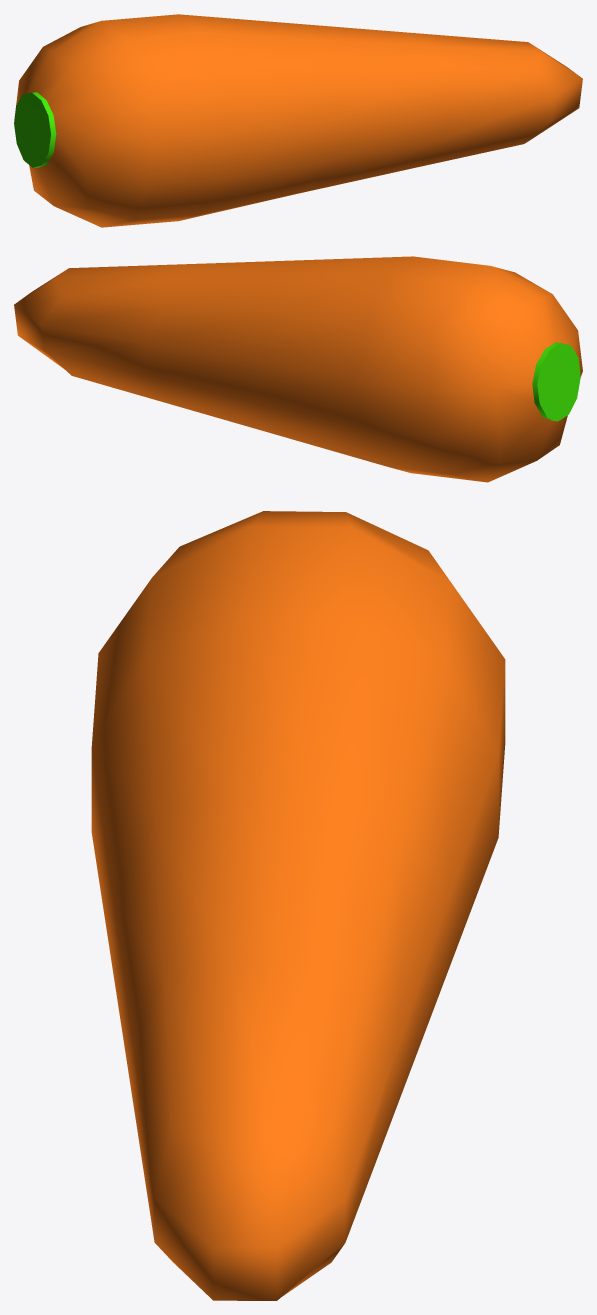
Rendered from Fridgerer_Carrot.glb.
The picture shows the model from 3 angles, top to bottom: view 1: azimuth 30°, elevation 25°; view 2: azimuth 150°, elevation 25°; view 3: azimuth 270°, elevation 25°; orthographic projection. The views are drawn at different scales.
Visible parts, largest first — view 1: Carrot; view 2: Carrot; view 3: Carrot.
Boxes of the visible parts, box(x1,y1,x2,y2) form: Carrot: box(14, 14, 582, 227); Carrot: box(14, 256, 582, 482); Carrot: box(91, 511, 505, 1300).
Size of the model in its own units: 0.2231 by 0.0776 by 0.0752.
